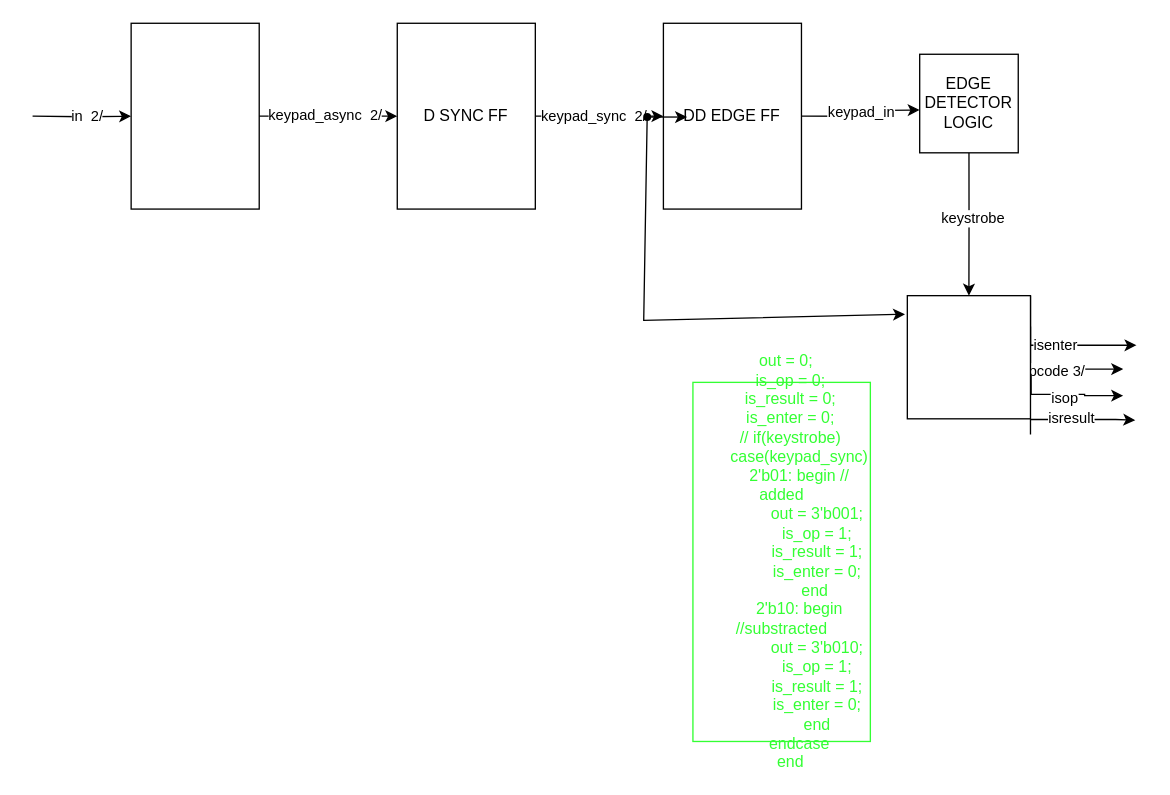
Image size: 1170x795. Some labels were removed from this diagram. The shapes that lost their labels are listed below. From the top down, each one's centre as x and y in pixels, then its label:
point 194,115: D ASYNC FF
point 968,356: opcode combinational logic
